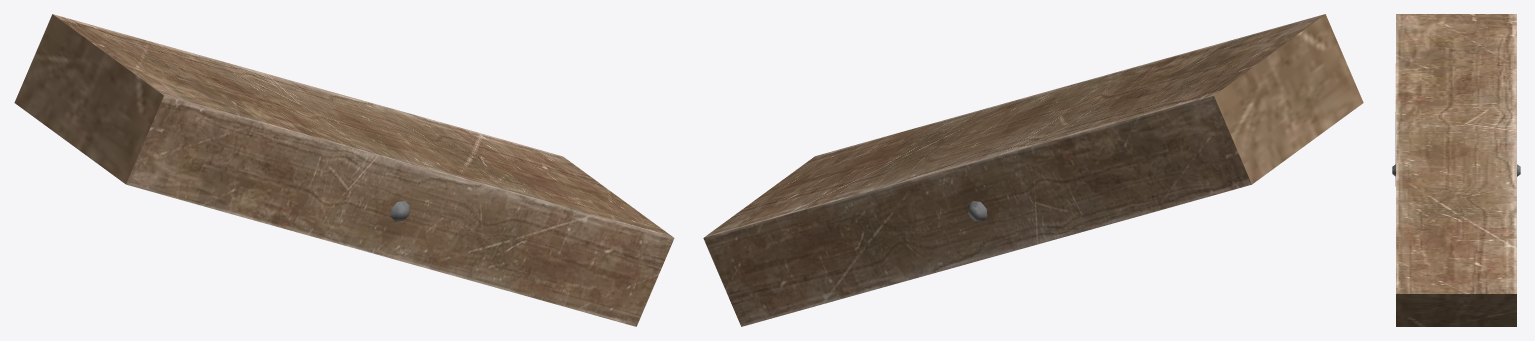
3 renders of one model, left to right at view 1: azimuth 30°, elevation 25°; view 2: azimuth 150°, elevation 25°; view 3: azimuth 270°, elevation 25°, orthographic. The views are drawn at different scales.
Parts seen in each view (by area): view 1: SM_BB_T3_BeamThin_Medium_Shallow_LOD0; view 2: SM_BB_T3_BeamThin_Medium_Shallow_LOD0; view 3: SM_BB_T3_BeamThin_Medium_Shallow_LOD0.
Part boxes in pixels (x1,y1,x2,y2): SM_BB_T3_BeamThin_Medium_Shallow_LOD0: [14, 14, 674, 326]; SM_BB_T3_BeamThin_Medium_Shallow_LOD0: [703, 14, 1363, 326]; SM_BB_T3_BeamThin_Medium_Shallow_LOD0: [1392, 14, 1520, 326].
Bounding box in the file's own units: 1.61 × 0.973 × 0.6008.
1 material, 1 textured.
